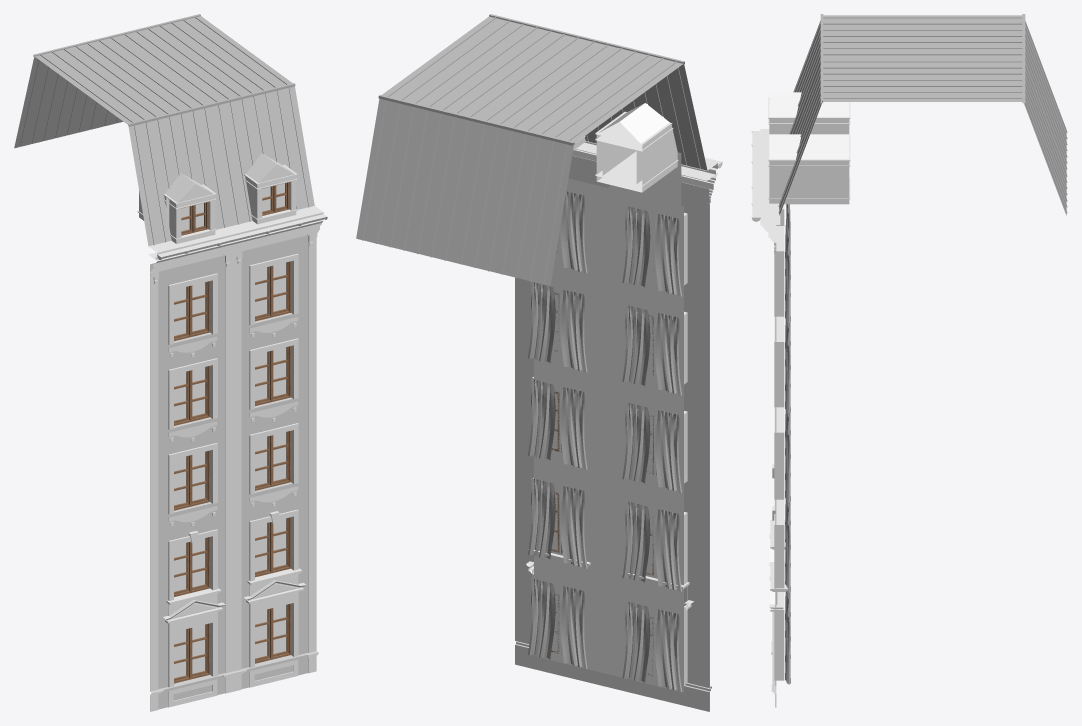
Rendered from Facade_Top.fbx.
The picture shows the model from 3 angles, left to right: view 1: azimuth 30°, elevation 25°; view 2: azimuth 150°, elevation 25°; view 3: azimuth 270°, elevation 25°; orthographic projection. The views are drawn at different scales.
Parts seen in each view (by area): view 1: Facade_Top; view 2: Facade_Top; view 3: Facade_Top.
Part boxes in pixels (x1,y1,x2,y2): Facade_Top: (14,14,327,711); Facade_Top: (356,14,722,711); Facade_Top: (751,14,1067,707).
Size of the model in its own units: 5.7 by 18.72 by 8.77.
